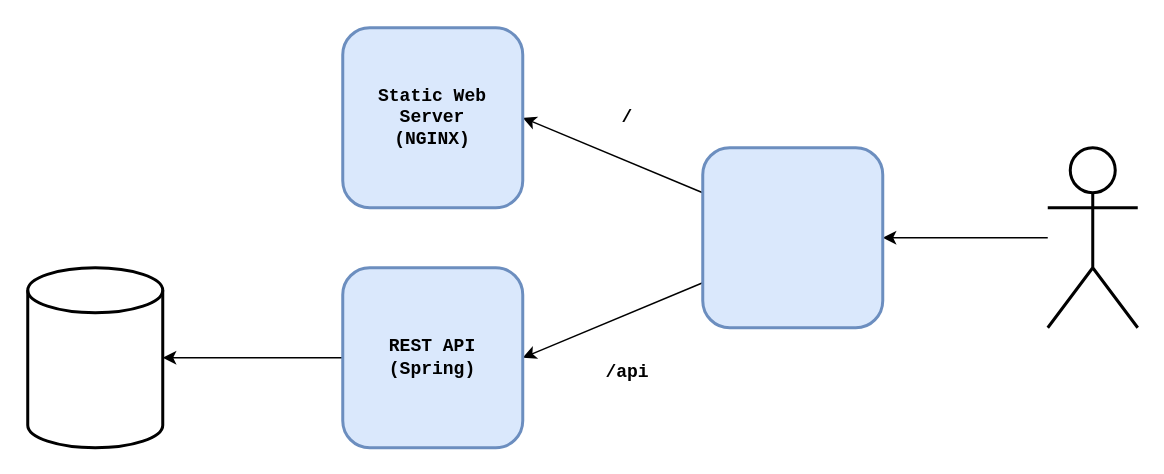
Image size: 1164x474. Some labels were removed from this diagram. The shapes that lost their labels are listed below. From the top down, each one's centre as x and y in pixels, then its label:
At [792,237]: "Gateway Service (NGINX)".
At [95,357]: "Database".
